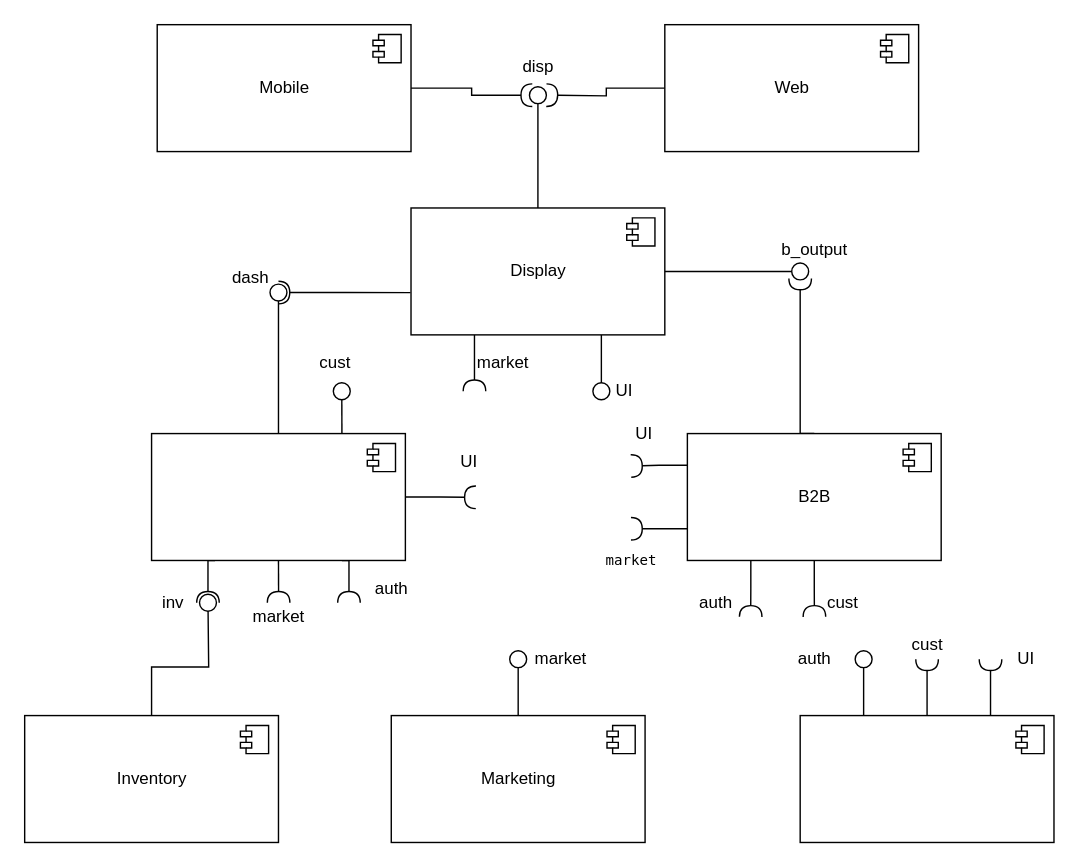
Image size: 1079x867. Some labels were removed from this diagram. The shapes that lost their labels are listed below. From the top down, each one's centre as x and y in pixels, then its label:
the point at 277,496: B2C
the point at 926,778: Security
